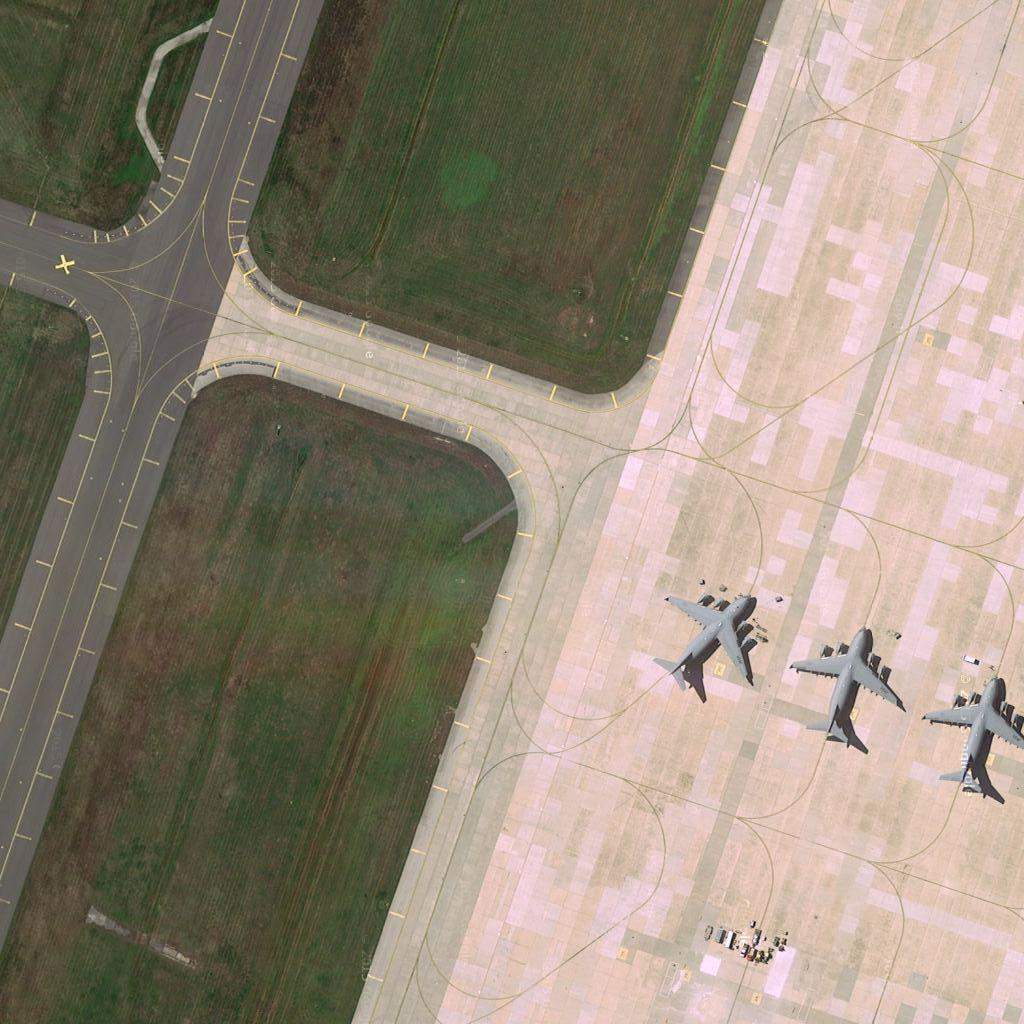C-17: (796, 623, 906, 757), (649, 578, 768, 701), (921, 671, 1023, 803)
